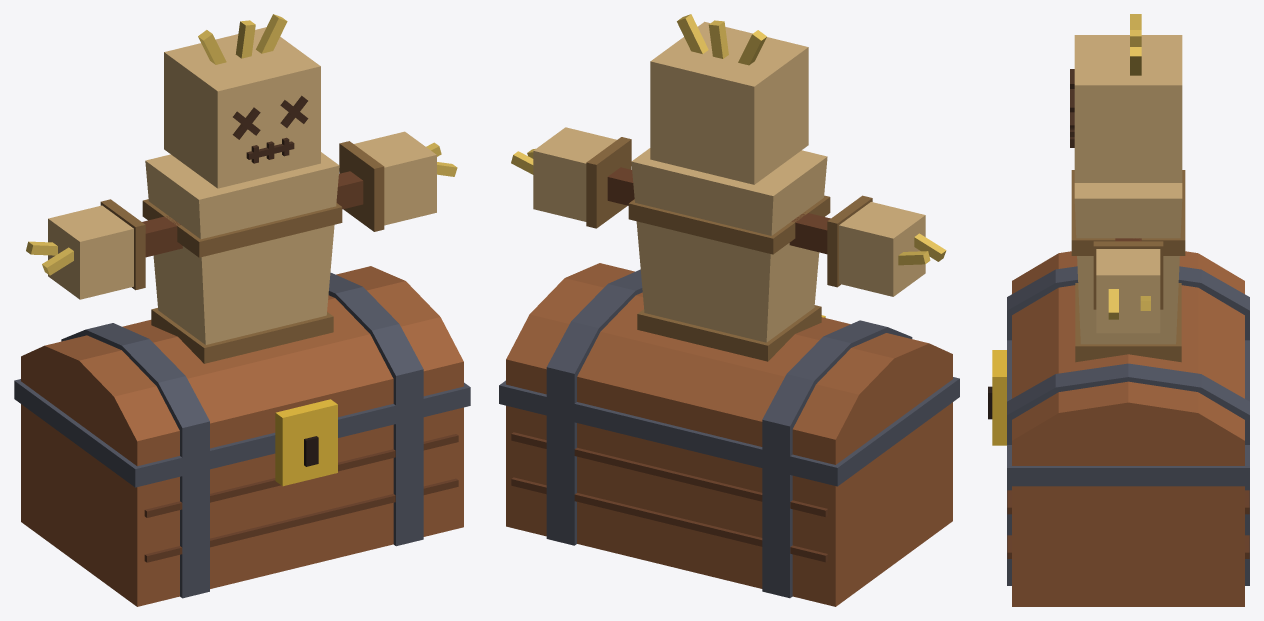
File: shared_shopprops.fbx
The picture shows the model from 3 angles, left to right: view 1: azimuth 30°, elevation 25°; view 2: azimuth 150°, elevation 25°; view 3: azimuth 270°, elevation 25°; orthographic projection.
Visible parts, largest first — view 1: ShopChest.Wood, TrainingDummy.Burlap, ShopChest.Iron, TrainingDummy.Rope, ShopChest.Gold, ShopChest.Grooves, TrainingDummy.Straw, TrainingDummy.Post, TrainingDummy.Stitches; view 2: ShopChest.Wood, TrainingDummy.Burlap, ShopChest.Iron, TrainingDummy.Rope, ShopChest.Grooves, TrainingDummy.Straw, TrainingDummy.Post; view 3: ShopChest.Wood, TrainingDummy.Burlap, ShopChest.Iron, TrainingDummy.Rope, ShopChest.Gold, TrainingDummy.Straw, ShopChest.Grooves, TrainingDummy.Stitches.
Boxes of the visible parts, x1,y1,x2,y2 form: ShopChest.Wood: (21, 266, 463, 606); TrainingDummy.Burlap: (48, 27, 436, 344); ShopChest.Iron: (14, 272, 470, 598); TrainingDummy.Rope: (100, 141, 384, 363); ShopChest.Gold: (275, 399, 337, 486); ShopChest.Grooves: (144, 434, 458, 562); TrainingDummy.Straw: (26, 14, 457, 275); TrainingDummy.Post: (142, 171, 363, 257); TrainingDummy.Stitches: (232, 95, 308, 163); ShopChest.Wood: (506, 263, 952, 606); TrainingDummy.Burlap: (533, 21, 925, 342); ShopChest.Iron: (499, 269, 959, 598); TrainingDummy.Rope: (586, 137, 872, 361); ShopChest.Grooves: (511, 432, 827, 562); TrainingDummy.Straw: (511, 14, 946, 265); TrainingDummy.Post: (607, 167, 830, 254); ShopChest.Wood: (1012, 251, 1244, 606); TrainingDummy.Burlap: (1074, 35, 1182, 344); ShopChest.Iron: (1007, 266, 1249, 585); TrainingDummy.Rope: (1071, 170, 1185, 362); ShopChest.Gold: (992, 350, 1006, 445); TrainingDummy.Straw: (1108, 14, 1150, 319); ShopChest.Grooves: (1007, 490, 1249, 558); TrainingDummy.Stitches: (1070, 69, 1074, 147).
Size of the model in its own units: 3.27 by 3.78 by 1.8.
